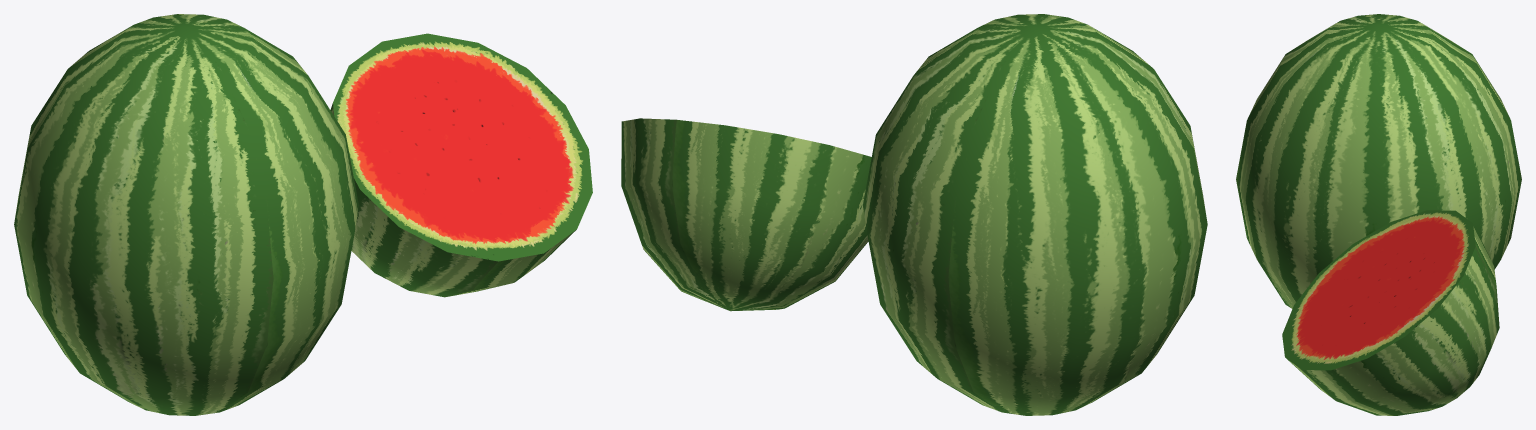
File: watermelon_2.fbx
The picture shows the model from 3 angles, left to right: view 1: azimuth 30°, elevation 25°; view 2: azimuth 150°, elevation 25°; view 3: azimuth 270°, elevation 25°; orthographic projection. The views are drawn at different scales.
Parts seen in each view (by area): view 1: Sphere, Sphere.001; view 2: Sphere, Sphere.001; view 3: Sphere, Sphere.001.
Boxes of the visible parts, left/top/right/bottom form: Sphere: left=14, top=14, right=358, bottom=415; Sphere.001: left=330, top=33, right=592, bottom=297; Sphere: left=863, top=14, right=1207, bottom=415; Sphere.001: left=621, top=118, right=871, bottom=311; Sphere: left=1236, top=14, right=1521, bottom=308; Sphere.001: left=1282, top=210, right=1499, bottom=415.
Bounding box in the file's own units: 362 × 238 × 200.
Materials: 2 (2 with a texture image).
